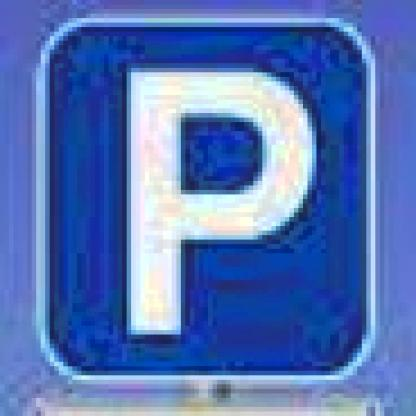Parking: (37, 17, 377, 377)
